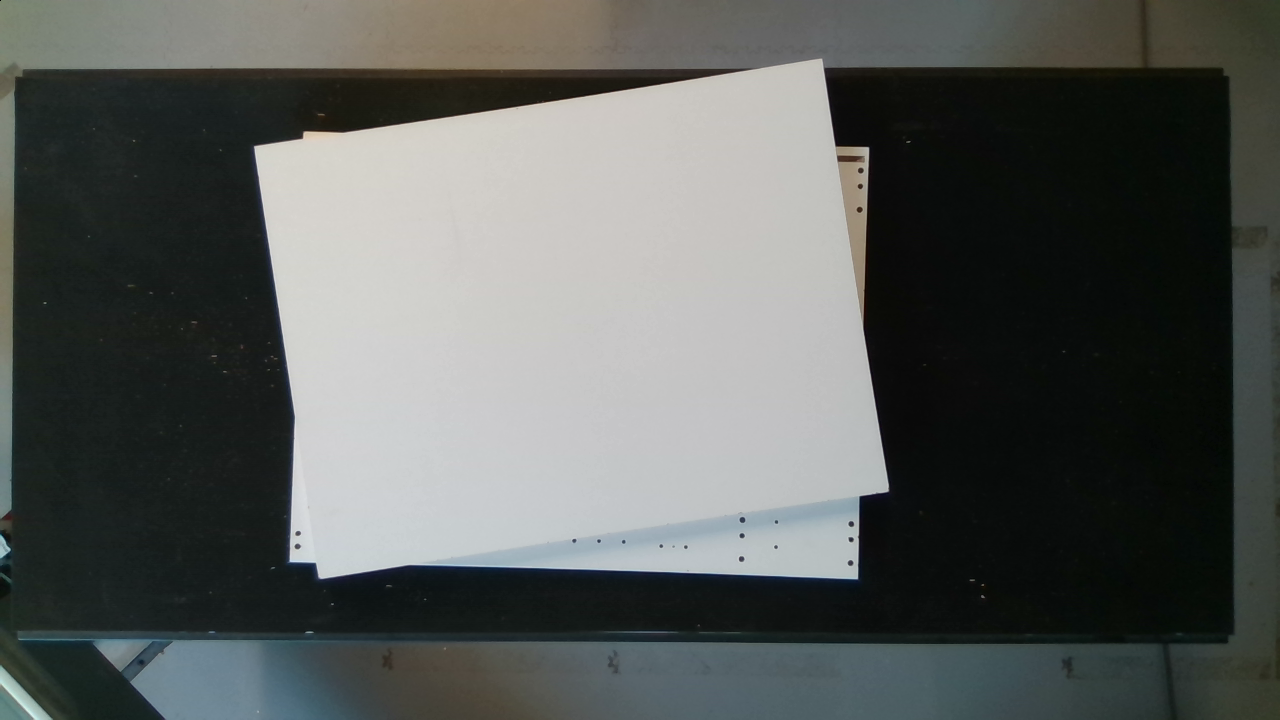part2: (248, 52, 909, 589)
